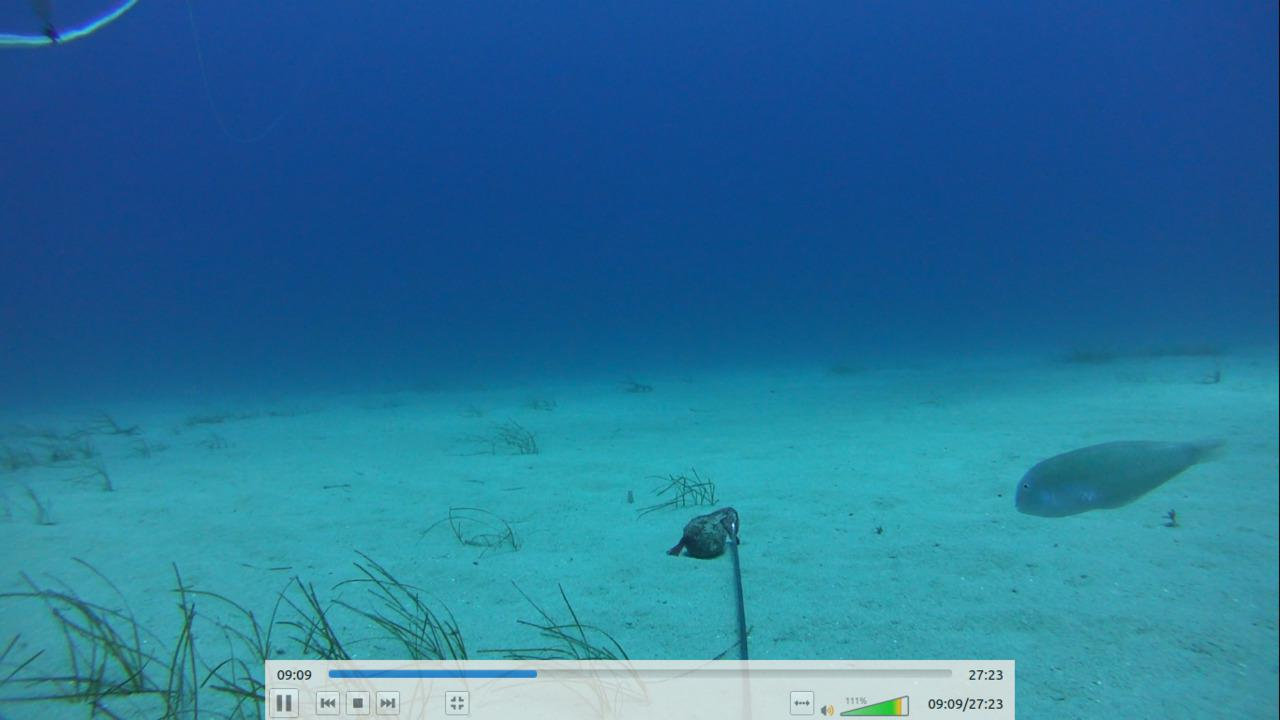raor: (1010, 430, 1229, 523)
